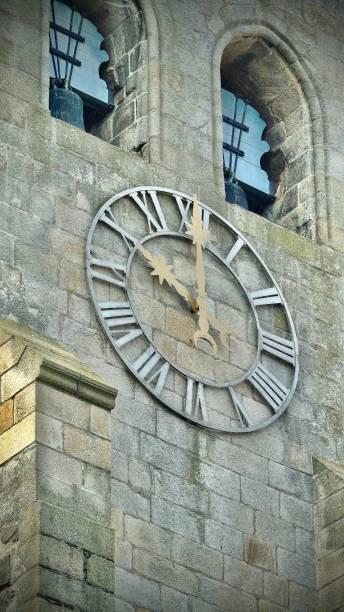clock: (77, 182, 315, 446)
